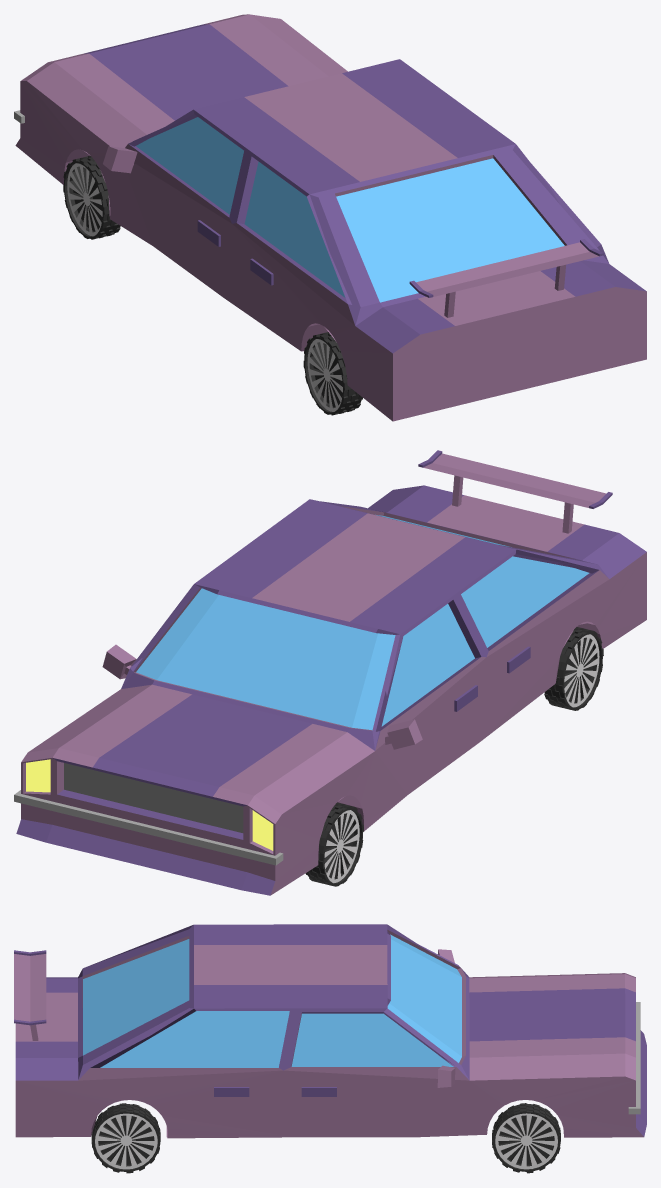
File: Lancer_champ_III.glb
The picture shows the model from 3 angles, top to bottom: view 1: azimuth 30°, elevation 25°; view 2: azimuth 150°, elevation 25°; view 3: azimuth 270°, elevation 25°; orthographic projection. The views are drawn at different scales.
Visible parts, largest first — view 1: Cube.001; view 2: Cube.001; view 3: Cube.001.
Part boxes in pixels (<box>): Cube.001: <box>14,14,646,421</box>; Cube.001: <box>14,450,646,895</box>; Cube.001: <box>14,924,646,1173</box>.
Size of the model in its own units: 3.09 by 1.73 by 6.5.
